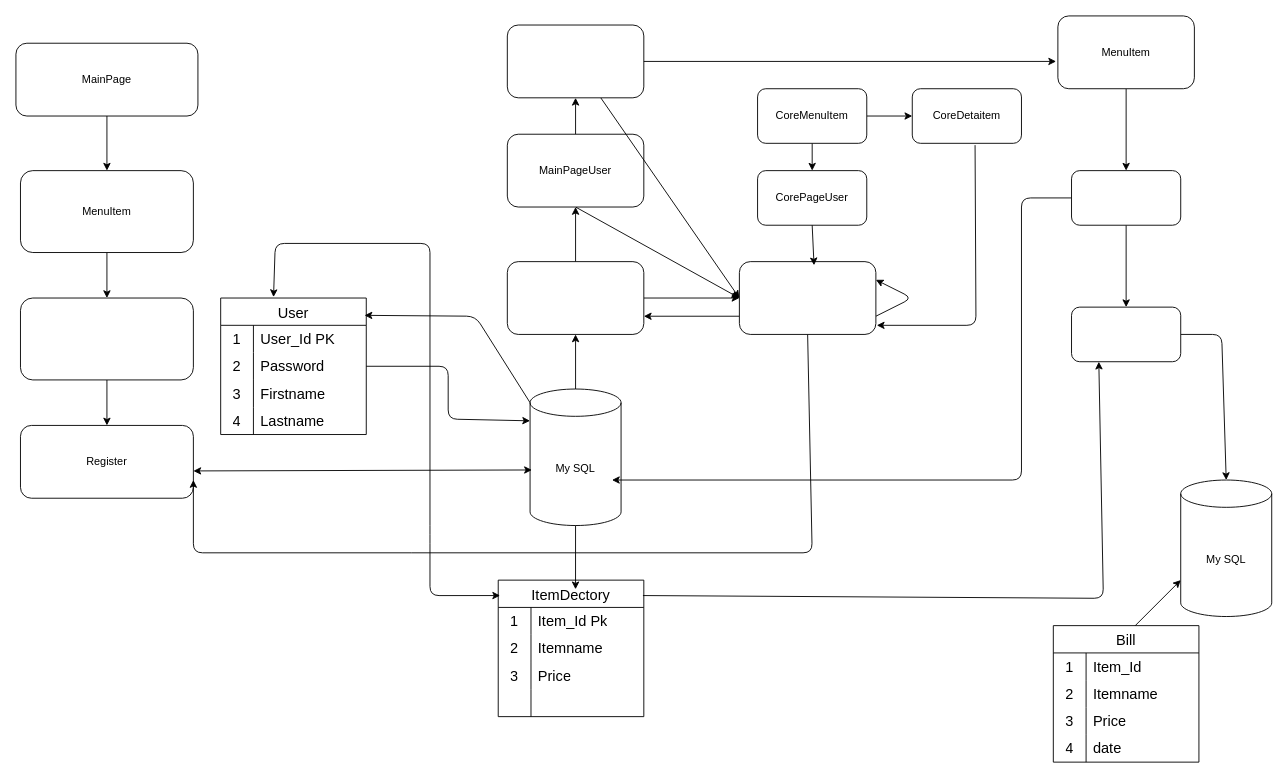
Image size: 1288x778. Some labels were removed from this diagram. The centre of each missing label's shape, as x and y in pixels:
AddItem: the point at 1126,197
Detail: the point at 106,338
Login: the point at 575,297
Logout CorePage: the point at 807,297
MenuItemUser: the point at 575,61
PayBill: the point at 1126,334
